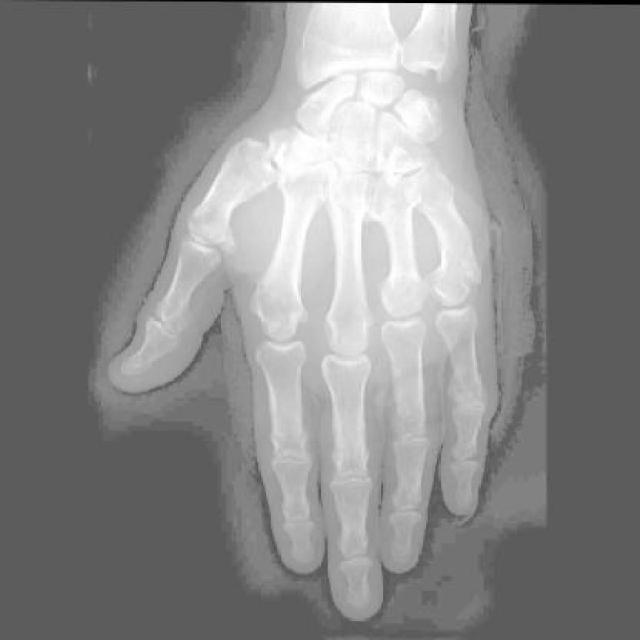Fracture: (429, 257, 483, 299)
